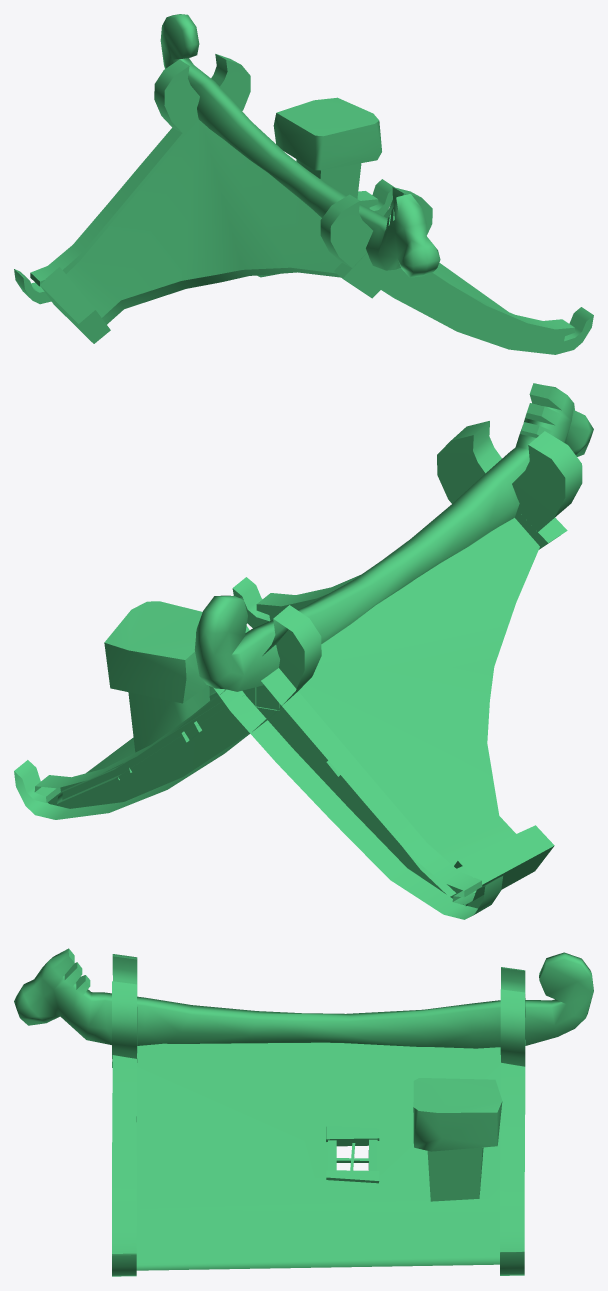
File: roof.fbx
3 renders of one model, top to bottom at view 1: azimuth 30°, elevation 25°; view 2: azimuth 150°, elevation 25°; view 3: azimuth 270°, elevation 25°, orthographic. The views are drawn at different scales.
Parts seen in each view (by area): view 1: roof; view 2: roof; view 3: roof.
Boxes of the visible parts, x1,y1,x2,y2 form: roof: [14, 14, 593, 354]; roof: [14, 383, 593, 919]; roof: [14, 948, 593, 1276].
Bounding box in the file's own units: 673 × 386 × 835.
